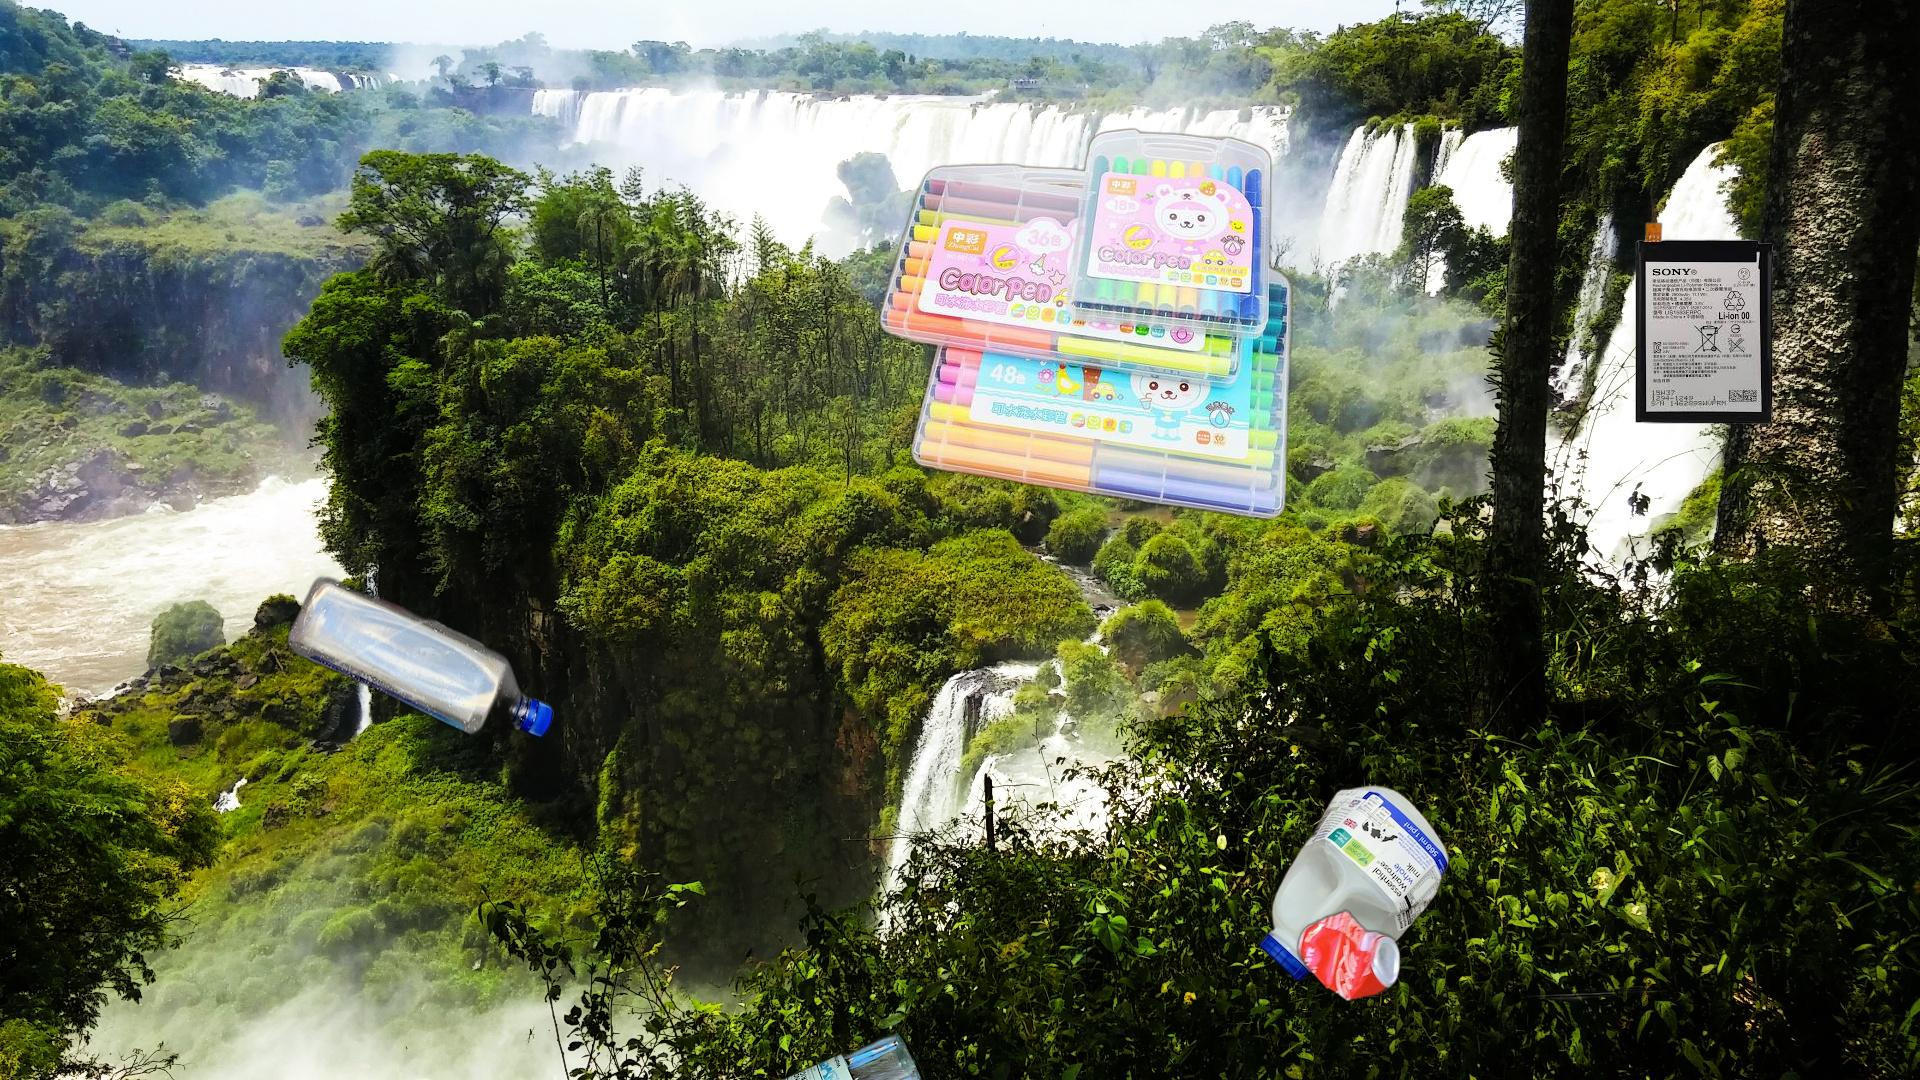battery: (1633, 220, 1776, 427)
glass: (679, 1026, 931, 1080)
metal-cans: (1155, 905, 1667, 1080)
penholder: (876, 125, 1296, 524)
plastic-bottles: (136, 572, 559, 767), (1255, 778, 1455, 997)
